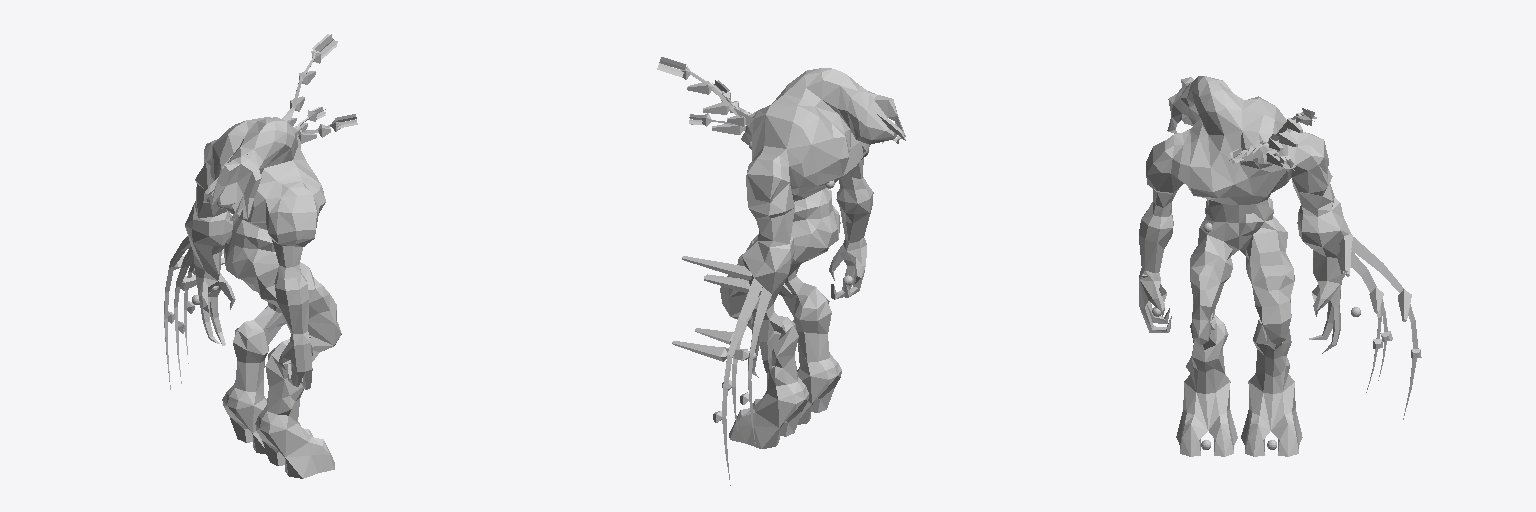
File: Flood Combat Form Elite.obj
3 renders of one model, left to right at view 1: azimuth 30°, elevation 25°; view 2: azimuth 150°, elevation 25°; view 3: azimuth 270°, elevation 25°, orthographic.
Visible parts, largest first — view 1: legs, right_arm, left_arm, torso, head; view 2: left_arm, legs, torso, head, right_arm, frame_spike_long_base; view 3: legs, left_arm, torso, right_arm, head.
Part boxes in pixels (x1,y1,x2,y2): legs: (222,262,341,478); right_arm: (250,167,325,389); left_arm: (164,121,244,389); torso: (216,34,357,284); head: (203,117,305,220); left_arm: (722,105,842,485); legs: (720,234,841,448); torso: (657,57,862,261); head: (772,68,905,151); right_arm: (829,142,873,299); frame_spike_long_base: (682,256,751,280); legs: (1176,220,1302,456); left_arm: (1259,97,1418,419); torso: (1189,96,1316,255); right_arm: (1139,130,1217,332); head: (1167,76,1243,163).
Size of the model in its own units: 41.63 by 78.59 by 53.44.